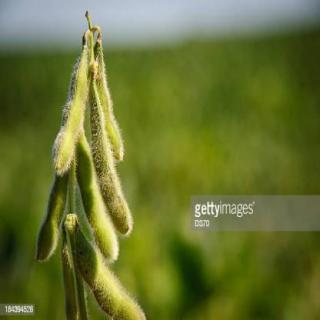soya: (89, 80, 130, 234), (75, 235, 148, 319), (75, 136, 120, 262), (52, 50, 88, 172), (96, 44, 124, 161), (36, 176, 68, 262), (61, 241, 78, 320)
